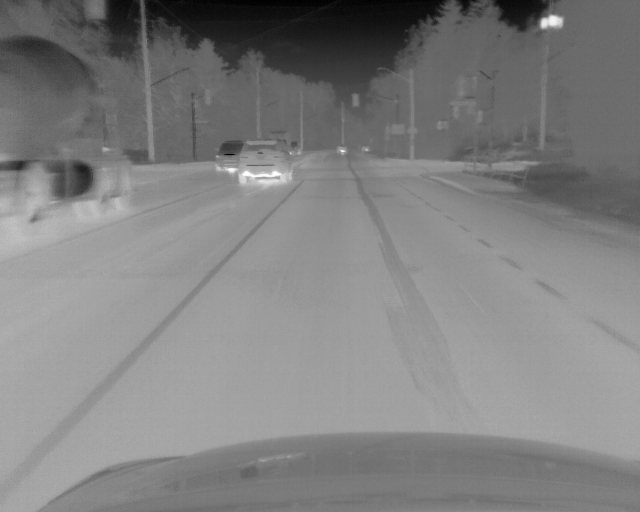car: (1, 35, 133, 251), (238, 136, 295, 187), (213, 138, 243, 173), (289, 139, 302, 157), (337, 144, 348, 157), (362, 144, 371, 154)
